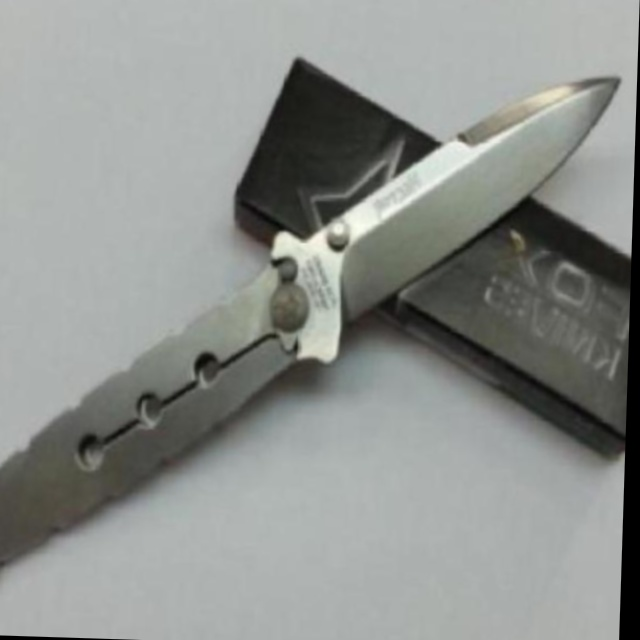Sharp-Object: (0, 58, 618, 630)
